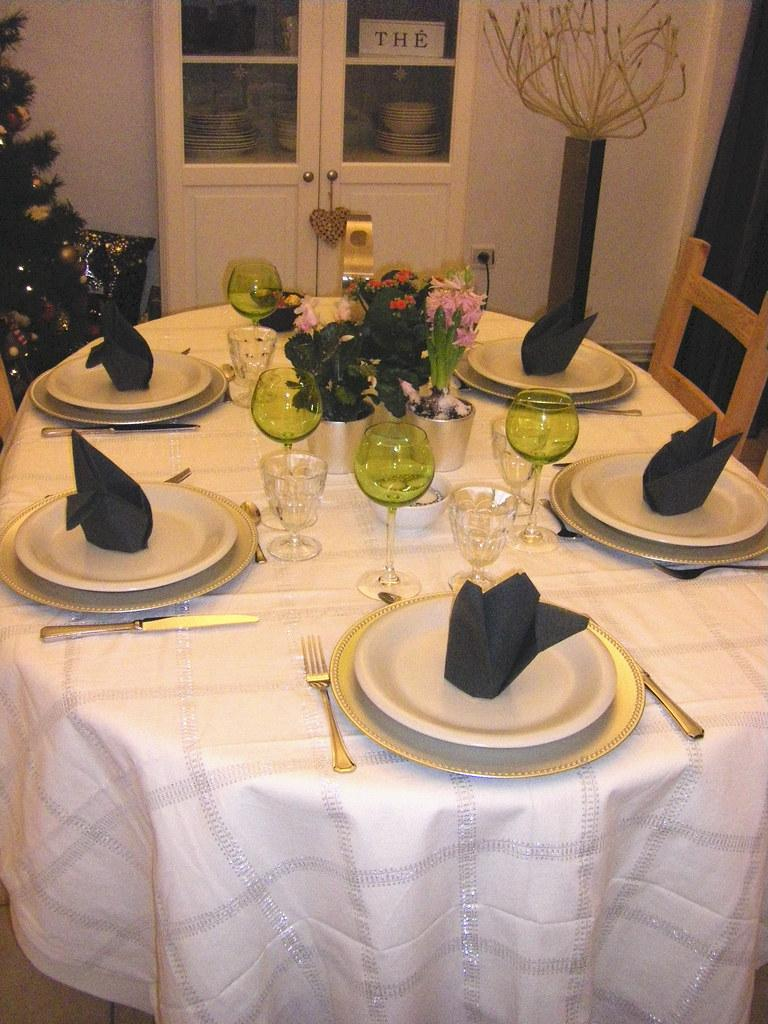table: (2, 294, 767, 1021)
